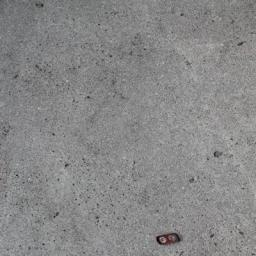FOD: (156, 231, 184, 249)
